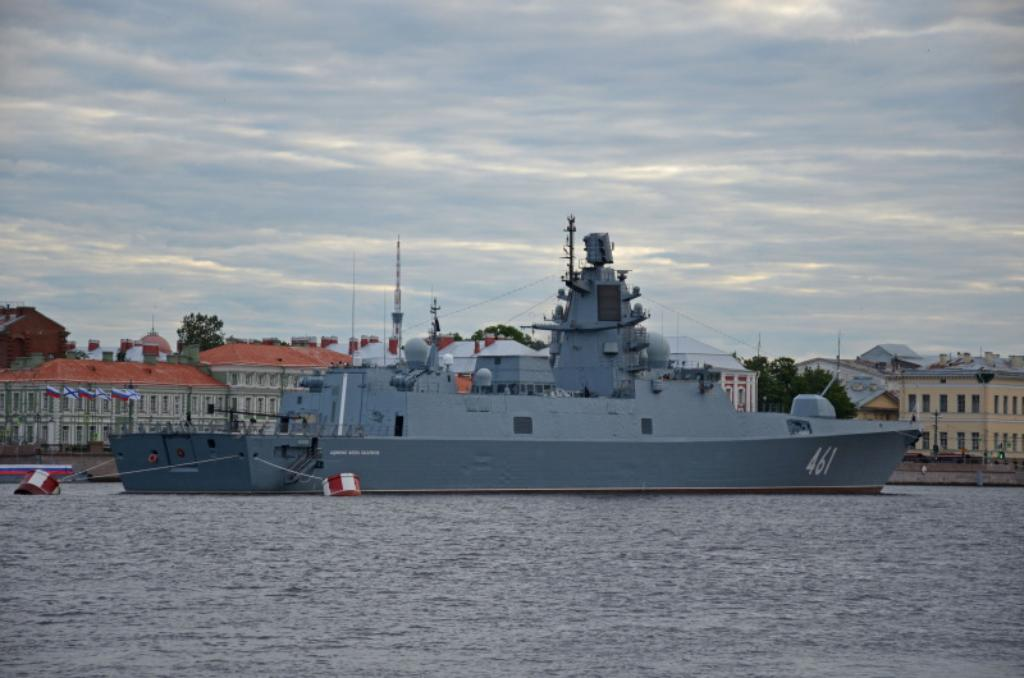Warship: (104, 210, 932, 498)
